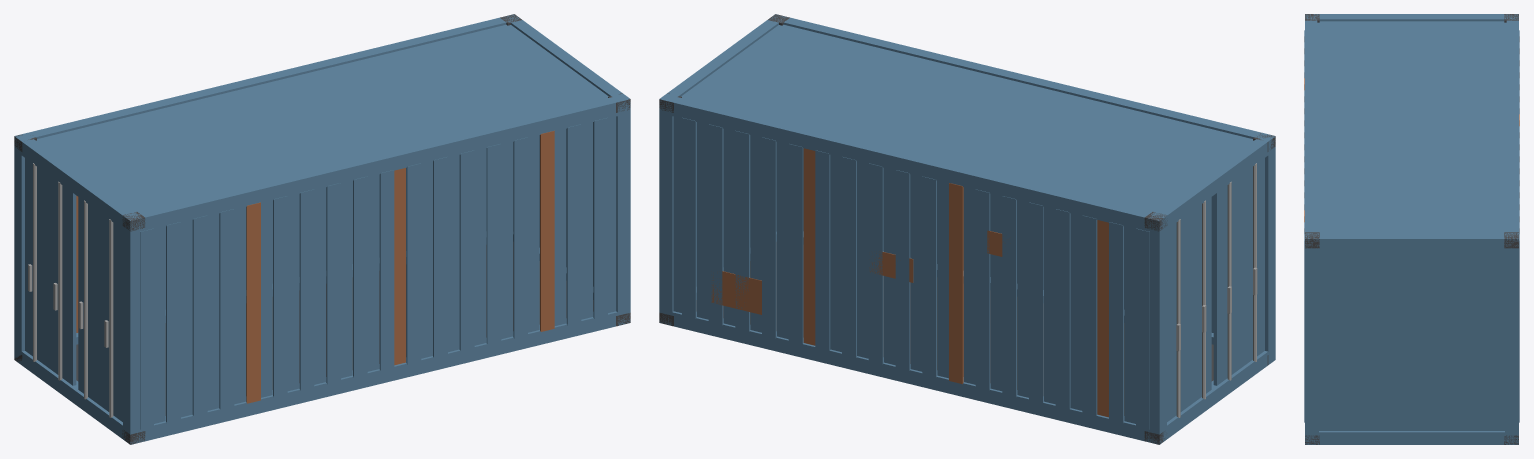
The model's file is container.glb.
3 renders of one model, left to right at view 1: azimuth 30°, elevation 25°; view 2: azimuth 150°, elevation 25°; view 3: azimuth 270°, elevation 25°, orthographic. The views are drawn at different scales.
Parts seen in each view (by area): view 1: Part; view 2: Part; view 3: Part.
Part boxes in pixels (bbox=[...]): Part: bbox=[14, 14, 630, 444]; Part: bbox=[659, 14, 1275, 444]; Part: bbox=[1304, 14, 1519, 444].
Size of the model in its own units: 6.1 by 2.59 by 2.45.
